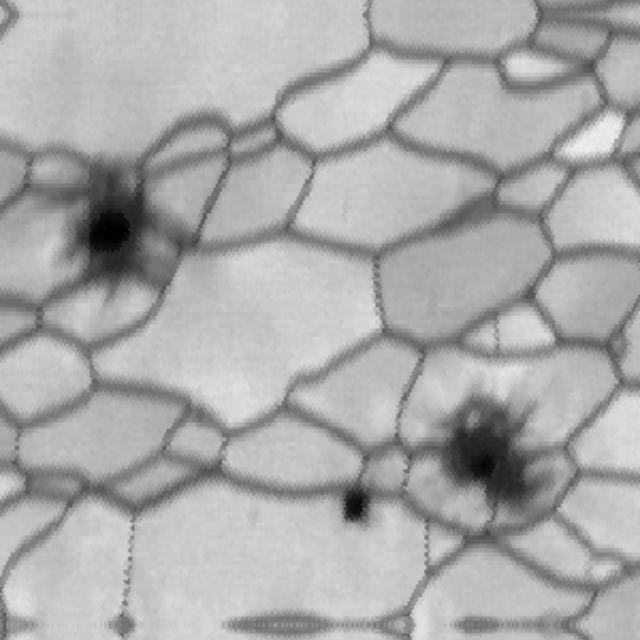good_void: (47, 150, 196, 292), (424, 376, 565, 526), (339, 489, 378, 535)
